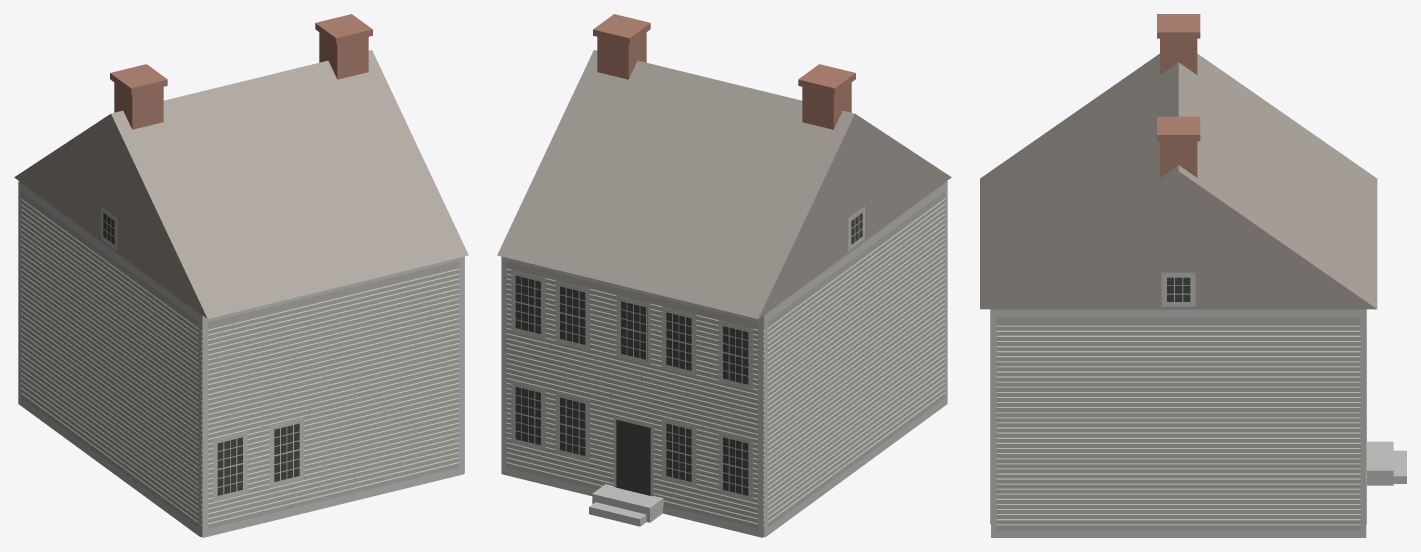
File: recon_1835_blk_school_section_tier_81_d7_07__inferred_1835.glb
The picture shows the model from 3 angles, left to right: view 1: azimuth 30°, elevation 25°; view 2: azimuth 150°, elevation 25°; view 3: azimuth 270°, elevation 25°; orthographic projection. The views are drawn at different scales.
Visible parts, largest first — view 1: recon_1835_blk_school_section_tier_81_d7_07__inferred_1835; view 2: recon_1835_blk_school_section_tier_81_d7_07__inferred_1835; view 3: recon_1835_blk_school_section_tier_81_d7_07__inferred_1835.
Part boxes in pixels (x1,y1,x2,y2): recon_1835_blk_school_section_tier_81_d7_07__inferred_1835: [14, 14, 468, 537]; recon_1835_blk_school_section_tier_81_d7_07__inferred_1835: [497, 14, 951, 537]; recon_1835_blk_school_section_tier_81_d7_07__inferred_1835: [980, 14, 1406, 537].
Size of the model in its own units: 7.09 by 9.91 by 9.65.
